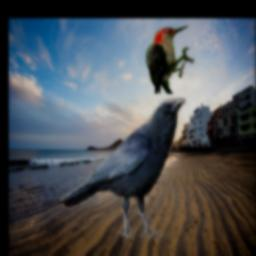Crow: (61, 98, 187, 239)
Woodpecker: (146, 27, 195, 95)
